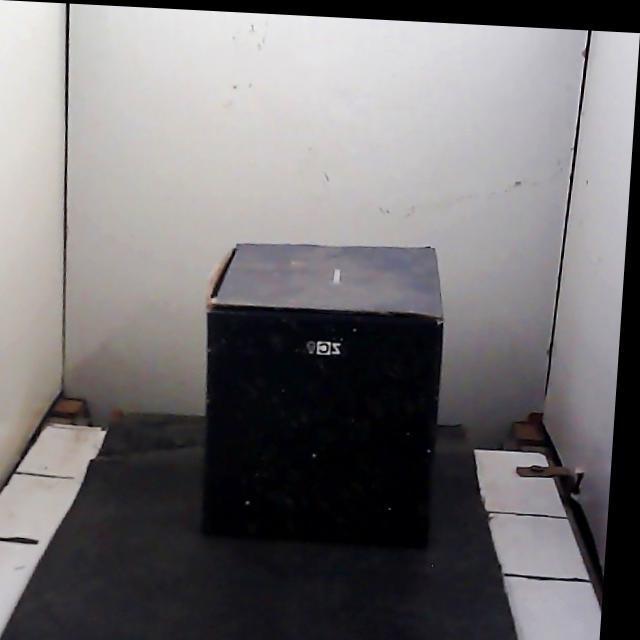papel: (204, 244, 443, 545)
